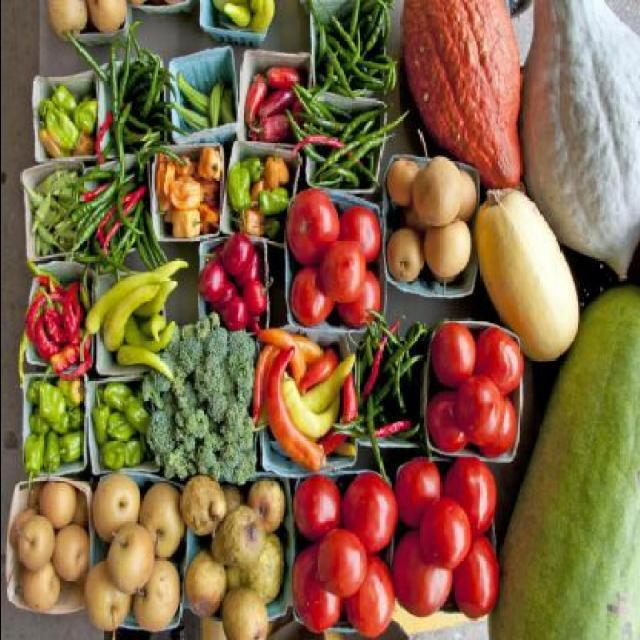Tomato: (390, 532, 453, 625), (354, 472, 403, 563), (442, 456, 496, 538), (346, 552, 397, 638), (293, 547, 345, 631), (453, 532, 499, 620), (287, 188, 339, 264), (419, 499, 472, 573), (474, 325, 524, 397), (289, 269, 333, 345), (290, 477, 342, 540), (316, 532, 364, 600), (430, 322, 478, 389), (393, 466, 447, 525), (421, 393, 470, 456), (320, 238, 366, 302), (457, 372, 500, 440), (336, 203, 380, 266), (337, 268, 380, 332), (480, 397, 517, 461)
